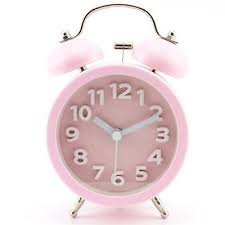alarm_clock: (37, 5, 189, 220), (45, 5, 189, 220)
